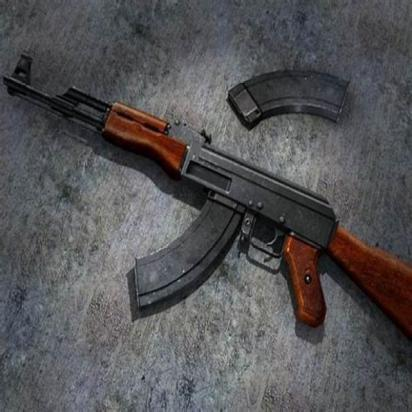Gun: (8, 61, 409, 335)
